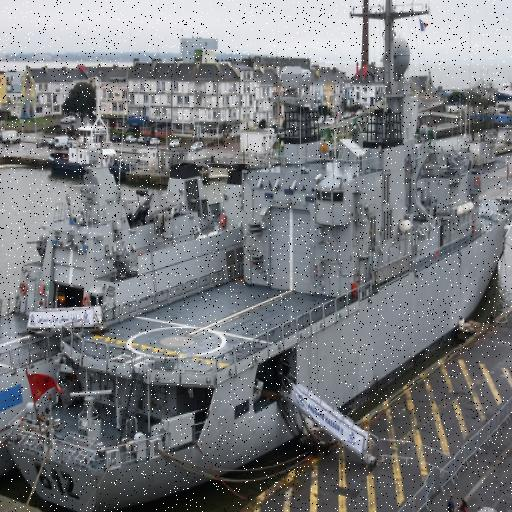Fragata: (2, 1, 512, 512)
